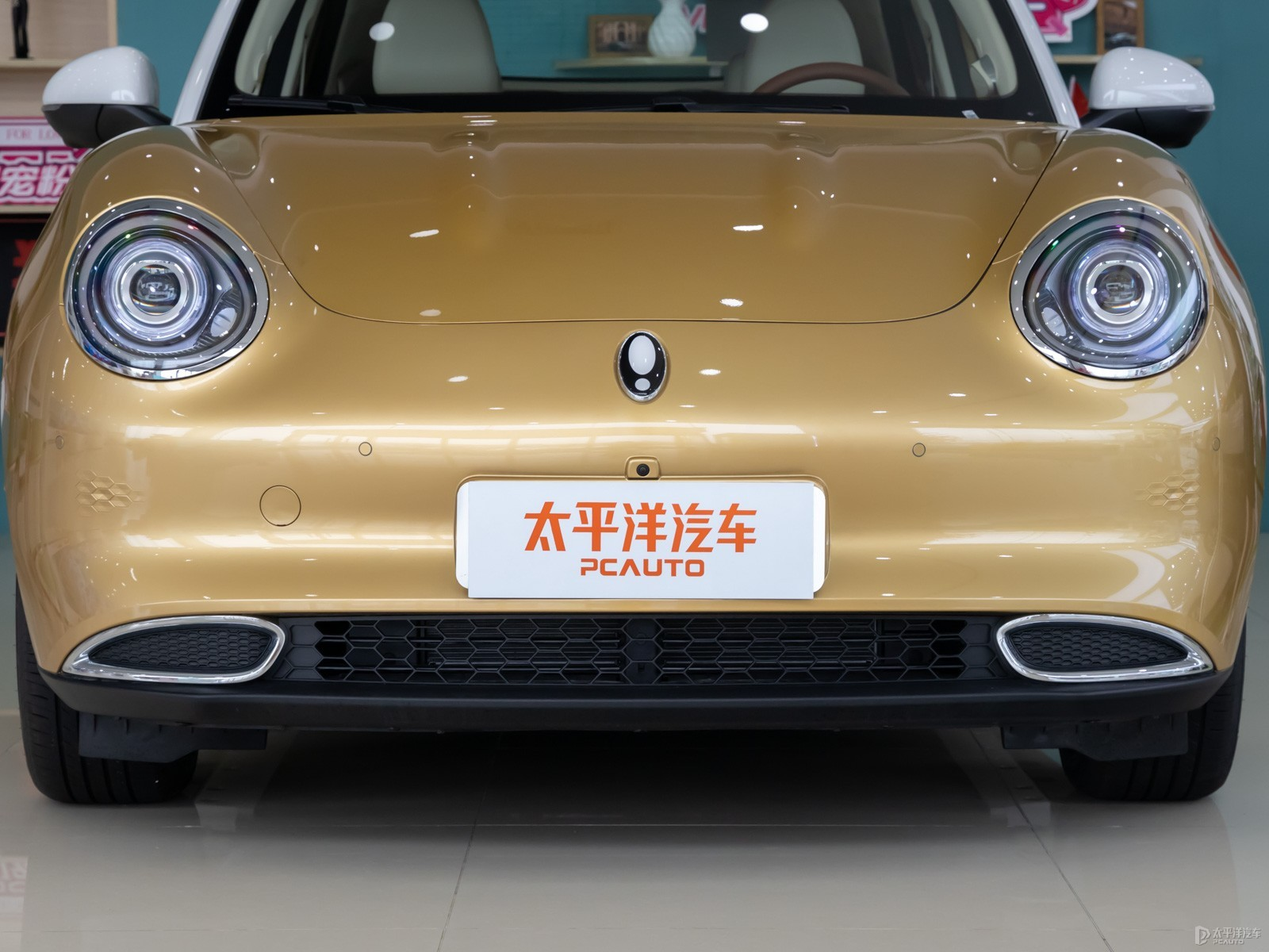ORA: (618, 332, 667, 401)
